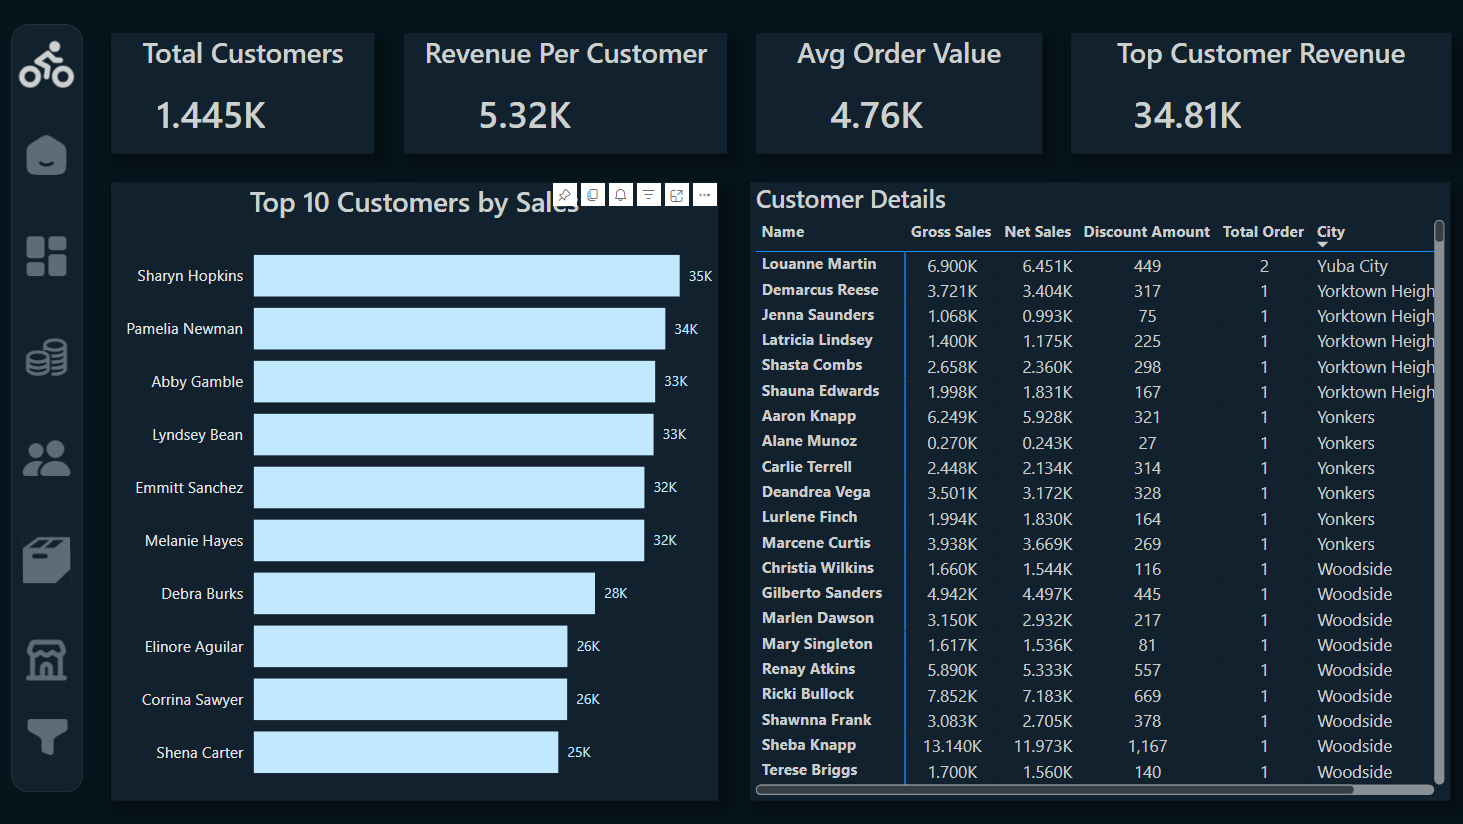

The page's visual inventory and layout, read from the dashboard file:
{"tool":"powerbi","page":{"name":"Customers","canvas":[1280,720],"ordinal":3},"visuals":[{"type":"shape","box":[14.1,20.6,63,668.3],"z":0},{"type":"actionButton","box":[20.2,193.3,49.5,58.5],"z":1000},{"type":"actionButton","box":[20.2,281.9,49.5,57.4],"z":2000},{"type":"actionButton","box":[20.2,369.5,49.5,57.4],"z":3000},{"type":"actionButton","box":[20.2,545.6,49.5,57.4],"z":4000},{"type":"actionButton","box":[20.2,457,49.5,58.5],"z":5000},{"type":"actionButton","box":[20.2,105.8,49.5,57.4],"z":6000},{"type":"actionButton","box":[12.4,23.6,65.2,66.4],"z":7000},{"type":"cardVisual","title":"Total Customers","fields":{"Data":["All-Measure.Total Customers"]},"box":[101.1,28.7,229.5,105.2],"z":8000},{"type":"cardVisual","title":"Revenue Per Customer","fields":{"Data":["All-Measure.Revenue per Customer"]},"box":[355.6,28.7,281.4,105.2],"z":9000},{"type":"pivotTable","title":"Customer Details","fields":{"Rows":["Customers.Full_Name"],"Values":["All-Measure.Gross Sales","All-Measure.Total Sales","All-Measure.Discount Amount","All-Measure.Total Order","Min(Customers.city)","Min(Customers.state)"]},"box":[656.4,157.9,609.1,538],"z":10000},{"type":"barChart","title":"Top 10 Customers by Sales","fields":{"Y":["All-Measure.Total Sales"],"Category":["Customers.Full_Name"]},"box":[101.3,157.9,527.5,538],"z":11000},{"type":"cardVisual","title":"Avg Order Value","fields":{"Data":["All-Measure.Avg Order Value"]},"box":[662.1,28.7,248.6,105.2],"z":12000},{"type":"cardVisual","title":"Top Customer Revenue","fields":{"Data":["All-Measure.Top Customer"]},"box":[935.8,28.7,330.6,105.2],"z":13000},{"type":"actionButton","box":[20.8,612.8,49.7,56.7],"z":13001}]}

Visuals, with their boxes on the page's 1280x720 design canvas (x1, y1, x2, y2). These are canvas units, not pixel positions in the 1463x824 screenshot, which may show the page scaled, cropped or inside an application window:
shape: left=14, top=21, right=77, bottom=689
actionButton: left=20, top=193, right=70, bottom=252
actionButton: left=20, top=282, right=70, bottom=339
actionButton: left=20, top=370, right=70, bottom=427
actionButton: left=20, top=546, right=70, bottom=603
actionButton: left=20, top=457, right=70, bottom=516
actionButton: left=20, top=106, right=70, bottom=163
actionButton: left=12, top=24, right=78, bottom=90
"Total Customers" cardVisual: left=101, top=29, right=331, bottom=134
"Revenue Per Customer" cardVisual: left=356, top=29, right=637, bottom=134
"Customer Details" pivotTable: left=656, top=158, right=1266, bottom=696
"Top 10 Customers by Sales" barChart: left=101, top=158, right=629, bottom=696
"Avg Order Value" cardVisual: left=662, top=29, right=911, bottom=134
"Top Customer Revenue" cardVisual: left=936, top=29, right=1266, bottom=134
actionButton: left=21, top=613, right=70, bottom=670
